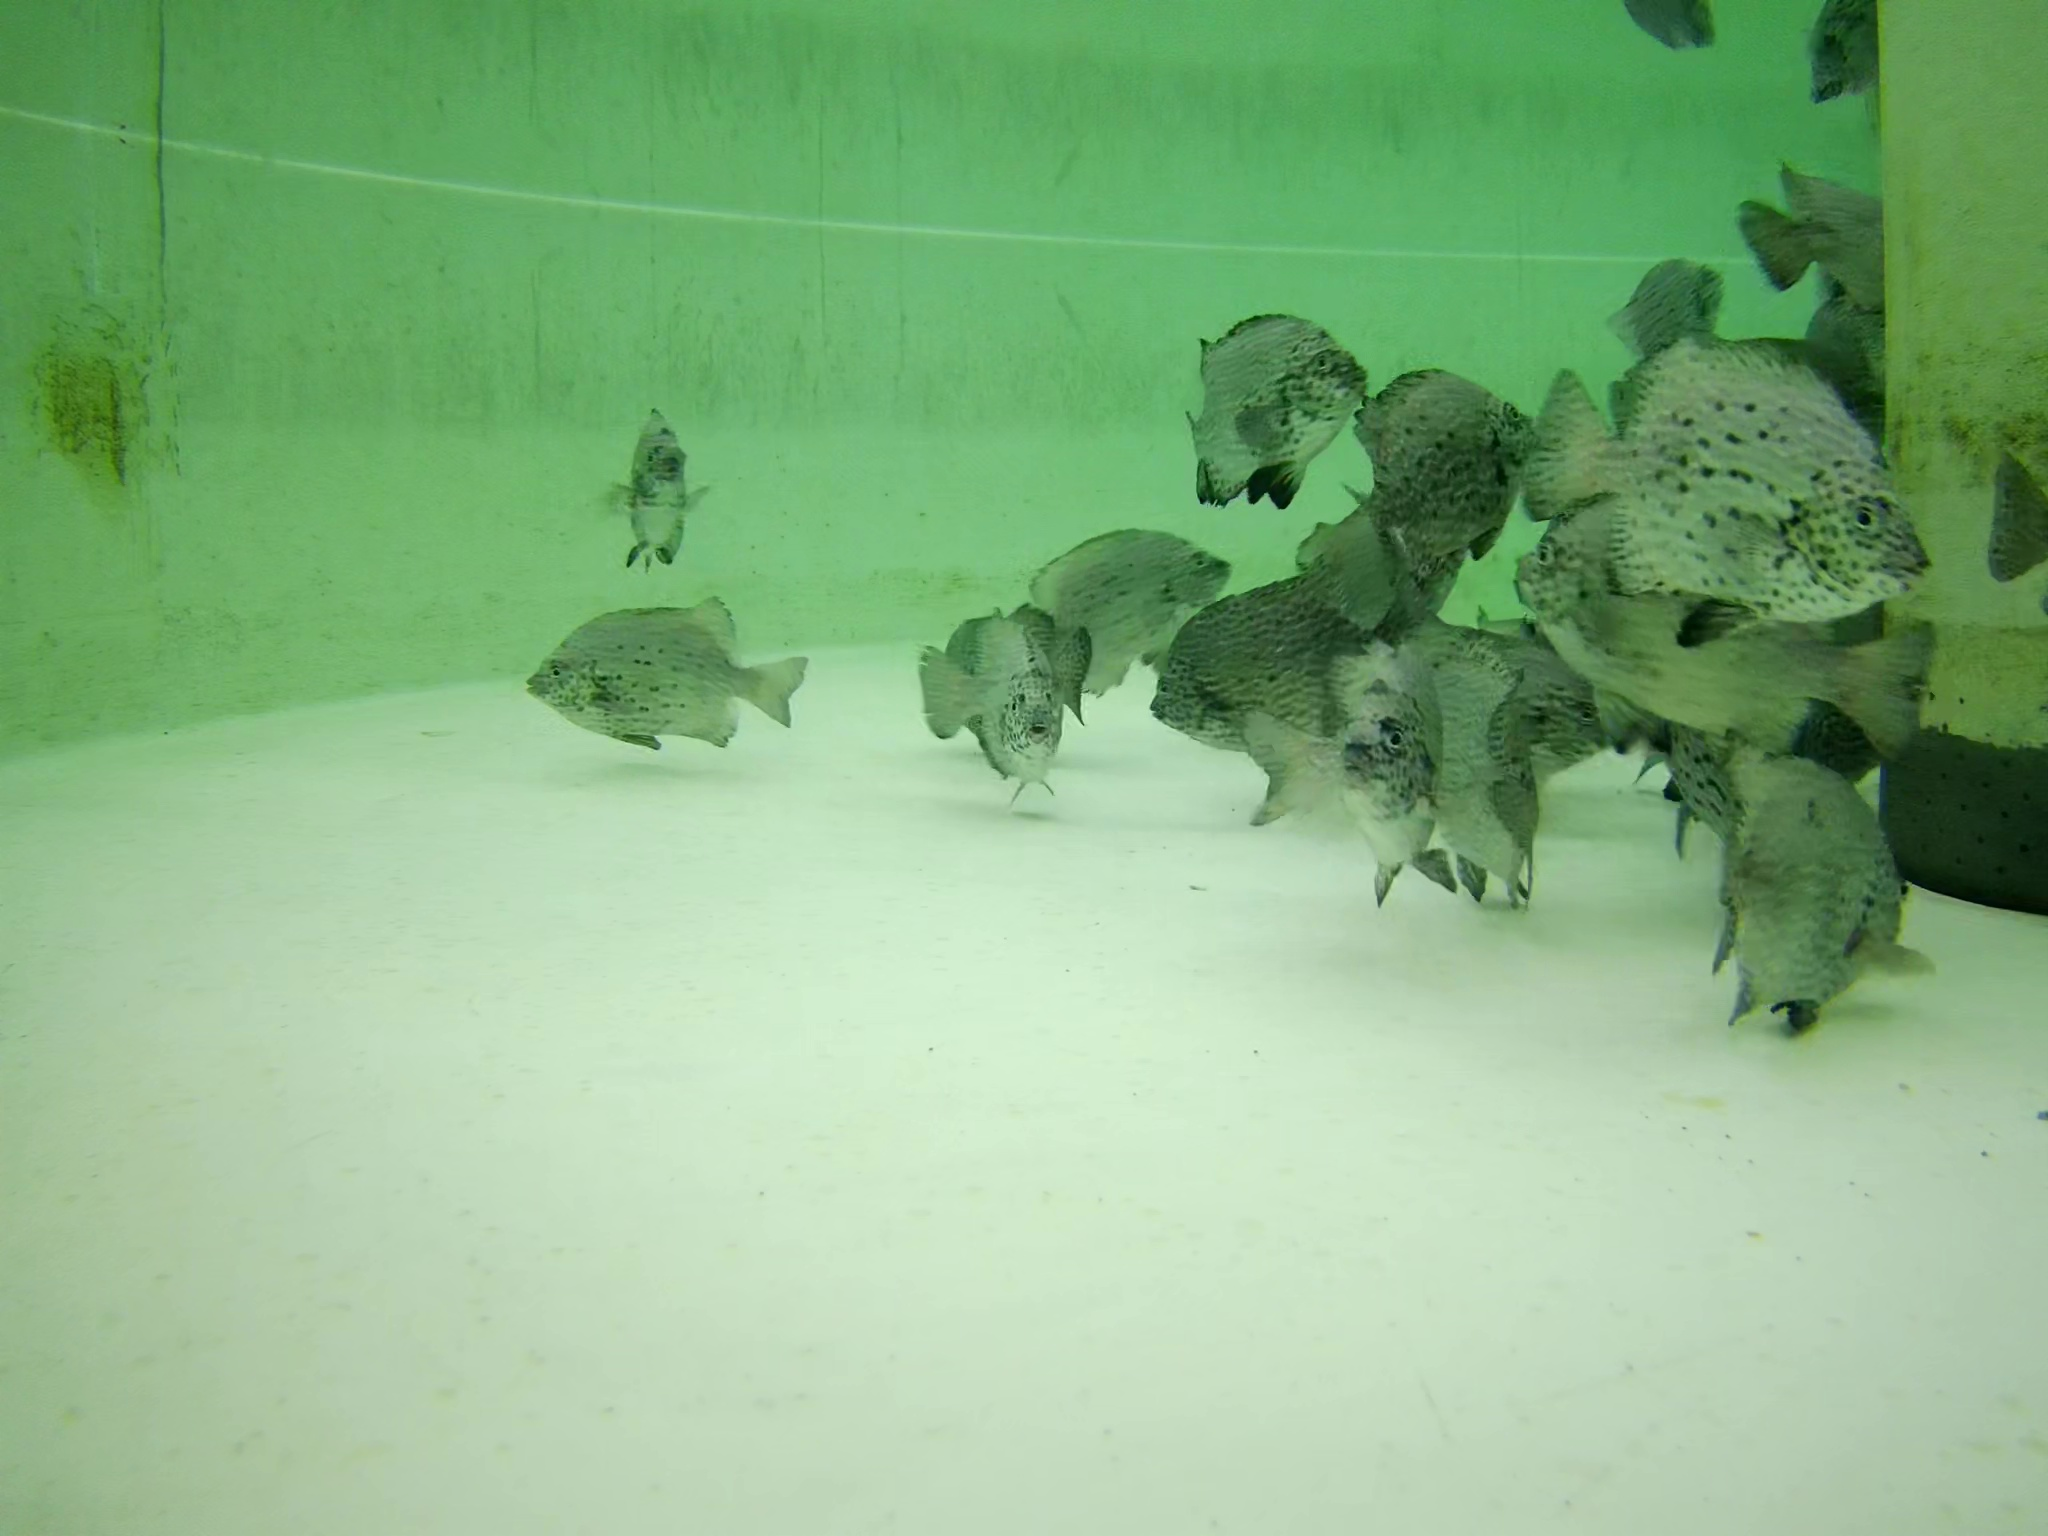fish: (1532, 334, 1934, 616), (1517, 495, 1927, 720), (1677, 720, 1911, 1012), (521, 602, 808, 771), (1253, 636, 1440, 881), (1132, 587, 1397, 755), (918, 611, 1092, 818), (1182, 310, 1372, 490), (1024, 523, 1229, 686), (1363, 361, 1535, 553), (1426, 628, 1537, 899), (1745, 169, 1893, 311), (1476, 626, 1611, 770), (606, 407, 706, 568), (1609, 244, 1719, 386), (1627, 2, 1734, 74), (1813, 2, 1872, 110)
